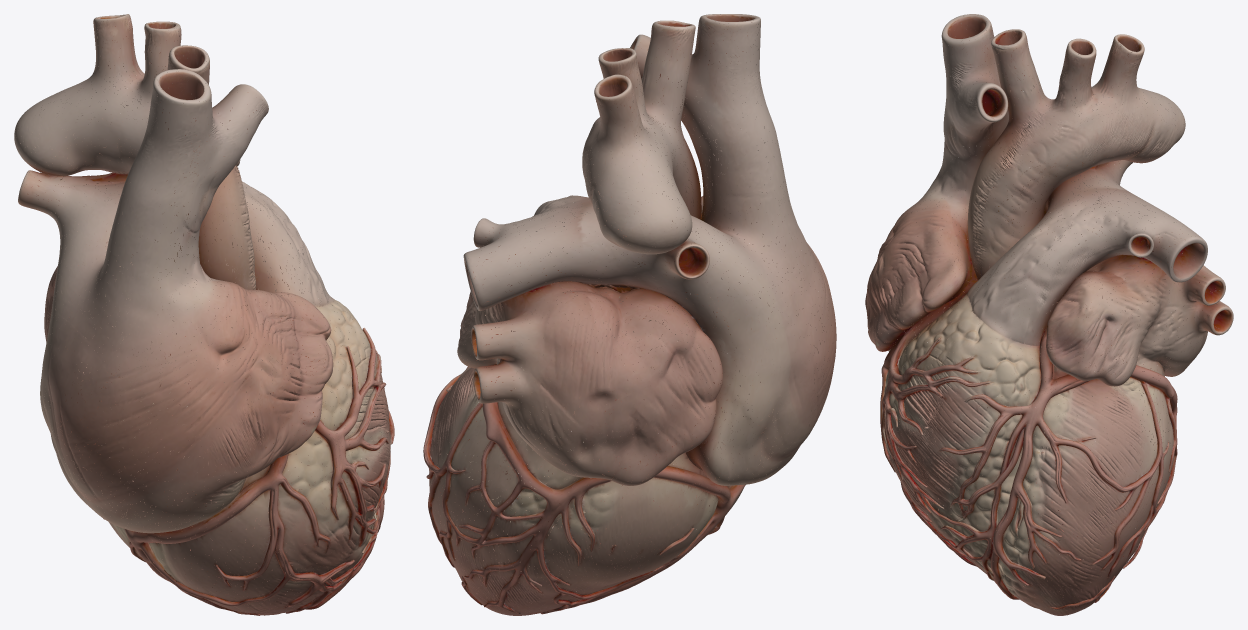
The model's file is heart.glb.
3 views of the same model, side by side, from view 1: azimuth 30°, elevation 25°; view 2: azimuth 150°, elevation 25°; view 3: azimuth 270°, elevation 25° (orthographic). The views are drawn at different scales.
Parts seen in each view (by area): view 1: Object_17, Object_16, Object_13, Object_14, Object_15, Object_18, Object_6, Object_2, Object_9, Object_12, Object_7, Object_11 (+7 smaller); view 2: Object_3, Object_5, Object_4, Object_6, Object_8, Object_10, Object_18, Object_7, Object_9, Object_14, Object_2, Object_11 (+8 smaller); view 3: Object_7, Object_11, Object_13, Object_12, Object_15, Object_19, Object_20, Object_6, Object_21, Object_18, Object_10, Object_3 (+8 smaller).
Part boxes in pixels (left/top/right/bottom): Object_17: left=44, top=263, right=365, bottom=574; Object_16: left=61, top=206, right=389, bottom=615; Object_13: left=43, top=72, right=386, bottom=613; Object_14: left=41, top=230, right=394, bottom=615; Object_15: left=54, top=205, right=394, bottom=611; Object_18: left=42, top=69, right=381, bottom=609; Object_6: left=14, top=14, right=323, bottom=574; Object_2: left=19, top=22, right=389, bottom=612; Object_9: left=25, top=77, right=334, bottom=594; Object_12: left=40, top=28, right=383, bottom=611; Object_7: left=18, top=14, right=336, bottom=535; Object_11: left=24, top=26, right=339, bottom=592; Object_3: left=447, top=196, right=811, bottom=538; Object_5: left=426, top=85, right=730, bottom=594; Object_4: left=430, top=229, right=722, bottom=601; Object_6: left=423, top=76, right=796, bottom=609; Object_8: left=423, top=77, right=726, bottom=615; Object_10: left=425, top=48, right=800, bottom=615; Object_18: left=548, top=14, right=836, bottom=498; Object_7: left=423, top=74, right=782, bottom=601; Object_9: left=426, top=117, right=773, bottom=615; Object_14: left=517, top=161, right=832, bottom=555; Object_2: left=432, top=18, right=836, bottom=613; Object_11: left=429, top=48, right=826, bottom=605; Object_7: left=970, top=35, right=1202, bottom=581; Object_11: left=953, top=40, right=1127, bottom=615; Object_13: left=882, top=14, right=1134, bottom=585; Object_12: left=878, top=30, right=1122, bottom=615; Object_15: left=879, top=133, right=1027, bottom=533; Object_19: left=952, top=14, right=1039, bottom=599; Object_20: left=975, top=29, right=1062, bottom=610; Object_6: left=913, top=34, right=1202, bottom=615; Object_21: left=995, top=31, right=1099, bottom=615; Object_18: left=884, top=15, right=1040, bottom=564; Object_10: left=981, top=38, right=1175, bottom=614; Object_3: left=881, top=189, right=1233, bottom=507.
Bounding box in the file's own units: 0.581 × 0.9813 × 0.6264.
